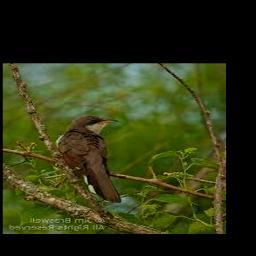Cuckoo: (55, 115, 122, 203)
